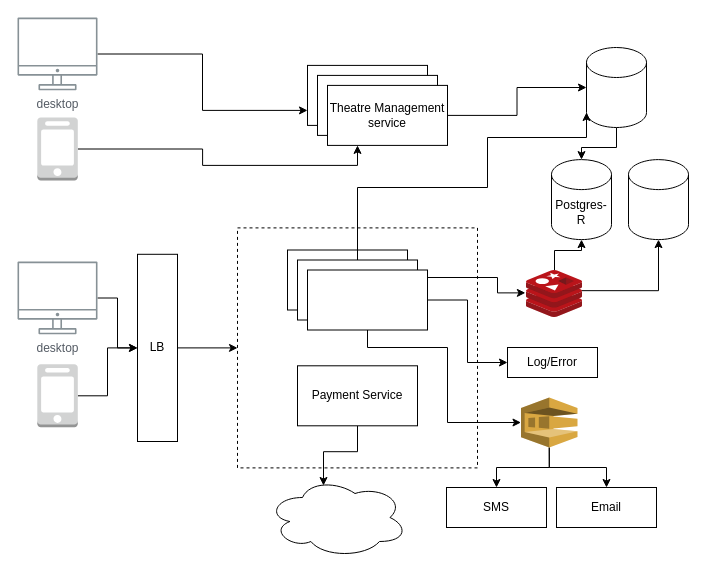
Image size: 706x575. Some labels were removed from this diagram. Each missing label, with the box of its shape:
NoSQL: (628, 159, 688, 240)
Payment Gateway: (266, 476, 408, 558)
Postgres-W: (586, 46, 646, 128)
Ticket booking service: (306, 269, 428, 330)
